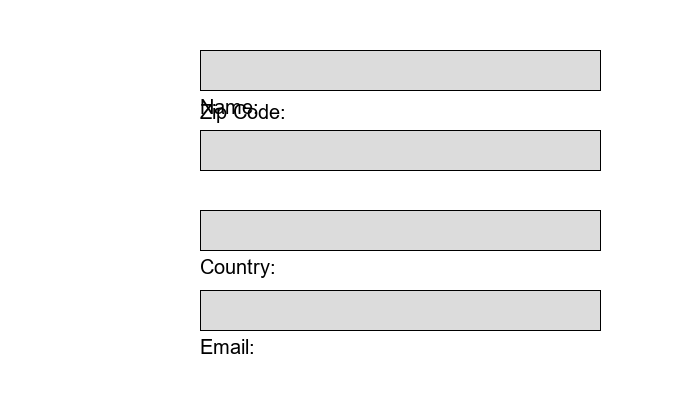Label: (200, 100, 280, 119), (200, 255, 270, 274), (200, 95, 253, 110), (200, 335, 249, 350)
Textbox: (200, 50, 600, 90), (200, 130, 600, 170), (200, 210, 600, 250), (200, 290, 600, 330)
